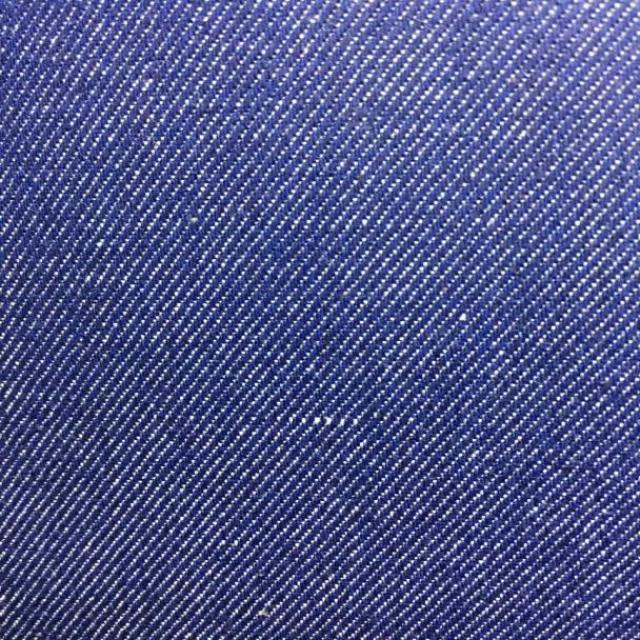Knot: (288, 412, 360, 430)
